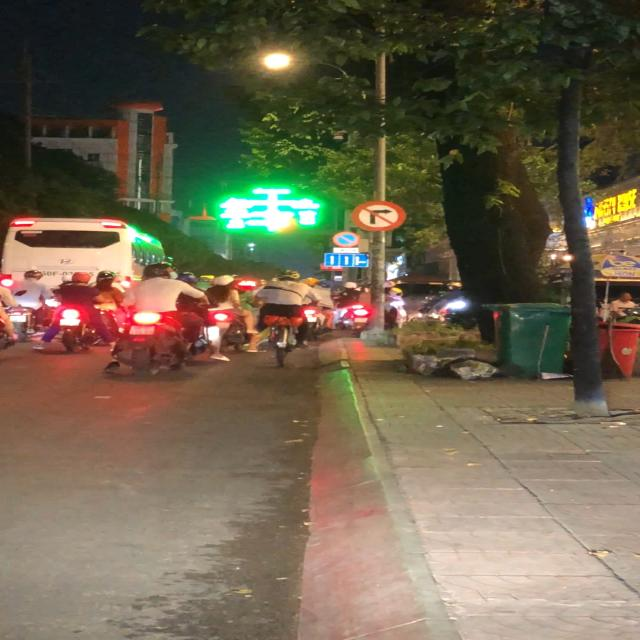Bien bao cam do xe: (330, 232, 360, 248)
Bien bao cam re phai: (350, 199, 411, 234)
